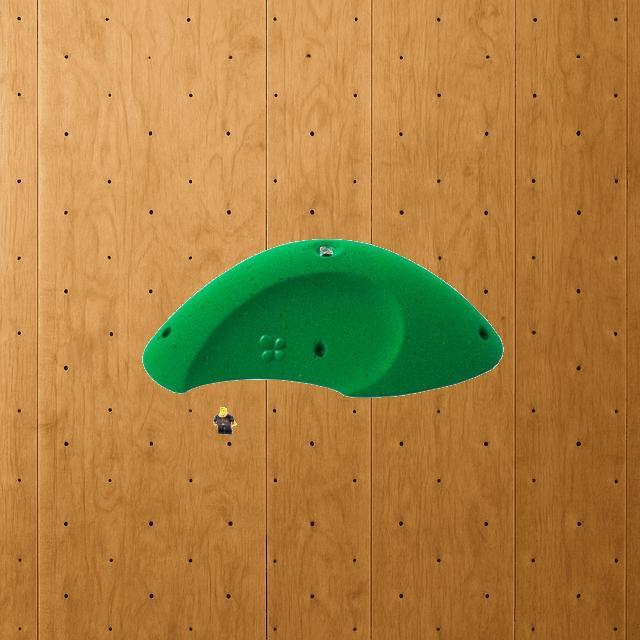Sloper: (141, 236, 503, 396)
